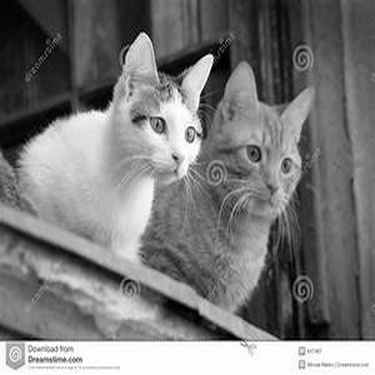cat: (13, 32, 214, 268), (137, 58, 316, 319)
